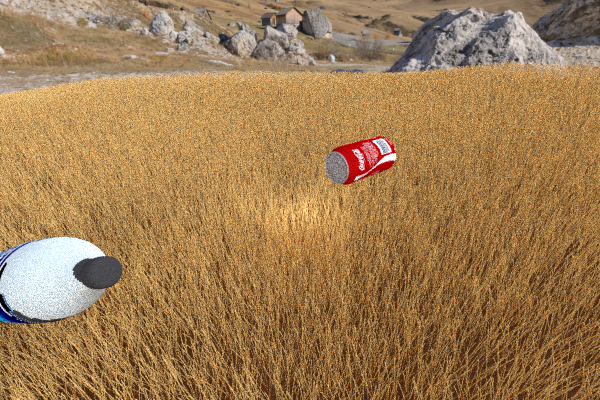Plastic Bottle: (0, 236, 122, 323), (324, 136, 396, 184), (193, 83, 231, 107)
